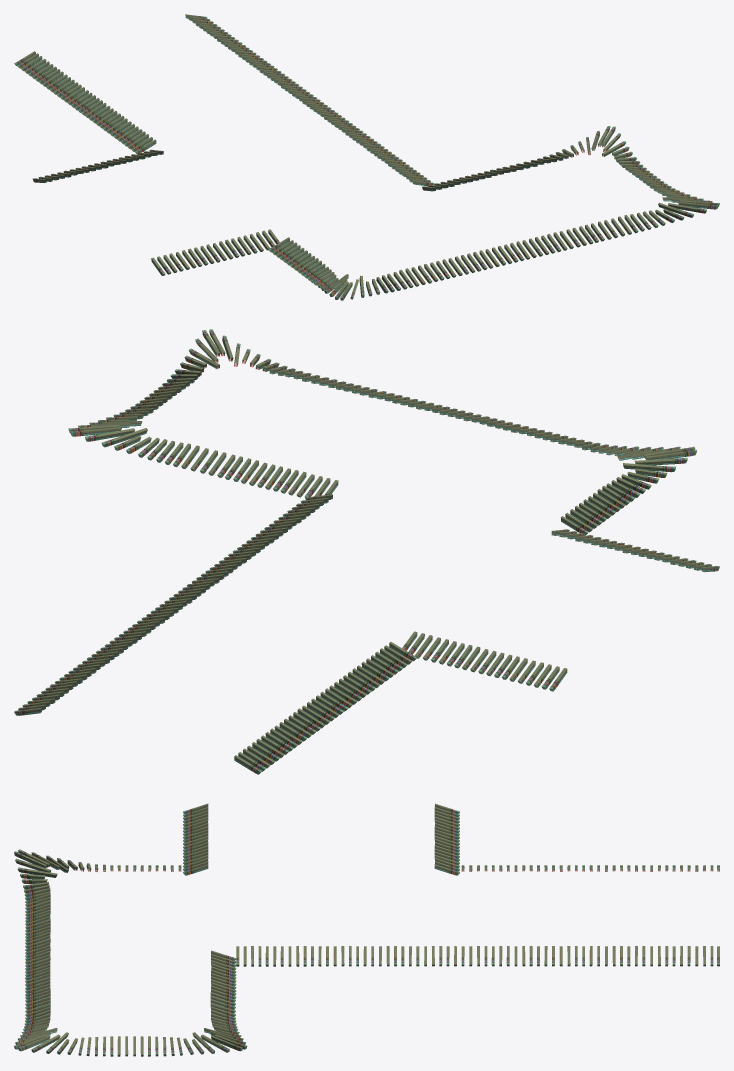
The model's file is SM_Buyeon05E.fbx.
3 renders of one model, top to bottom at view 1: azimuth 30°, elevation 25°; view 2: azimuth 150°, elevation 25°; view 3: azimuth 270°, elevation 25°, orthographic. The views are drawn at different scales.
Parts seen in each view (by area): view 1: SM_Buyeon05E; view 2: SM_Buyeon05E; view 3: SM_Buyeon05E.
Boxes of the visible parts, box(x1,y1,x2,y2) form: SM_Buyeon05E: box(14, 14, 719, 300); SM_Buyeon05E: box(14, 329, 719, 774); SM_Buyeon05E: box(14, 803, 719, 1056).
Bounding box in the file's own units: 2154 × 2590 × 56.1.
